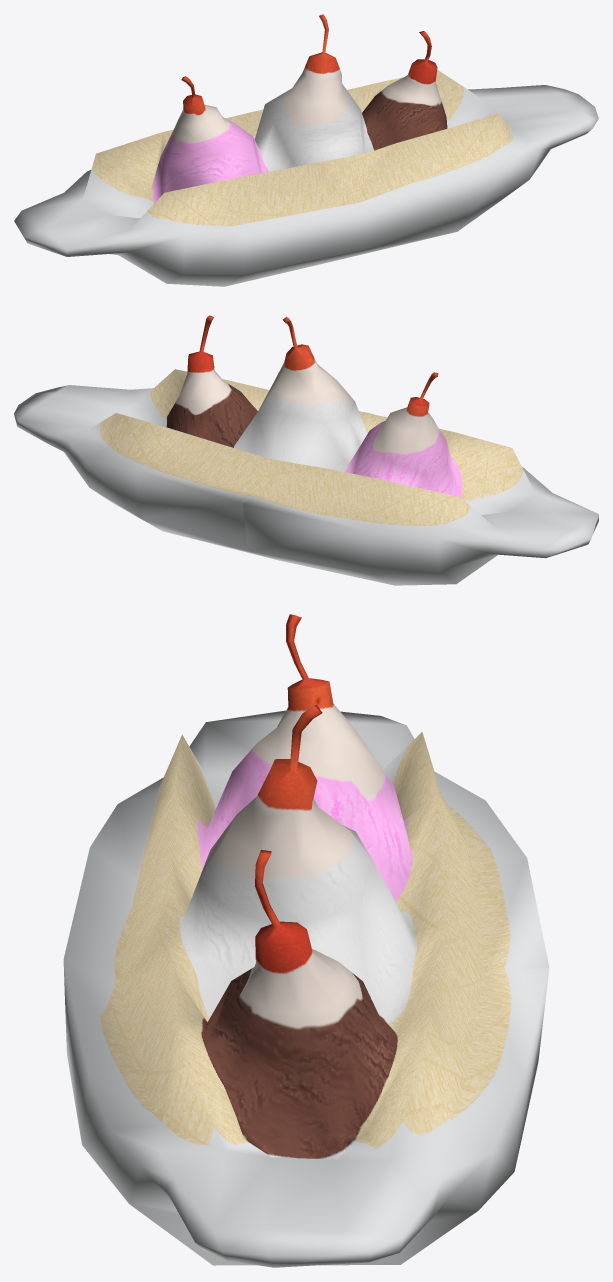
File: BananaSplit.fbx
3 views of the same model, one above another, from view 1: azimuth 30°, elevation 25°; view 2: azimuth 150°, elevation 25°; view 3: azimuth 270°, elevation 25° (orthographic). The views are drawn at different scales.
Visible parts, largest first — view 1: BananaShell; view 2: BananaShell; view 3: BananaShell.
Boxes of the visible parts, x1,y1,x2,y2 form: BananaShell: [14, 14, 598, 286]; BananaShell: [14, 315, 598, 585]; BananaShell: [63, 614, 549, 1267].
Size of the model in its own units: 4.72 by 1.74 by 1.77.
1 material, 1 textured.
